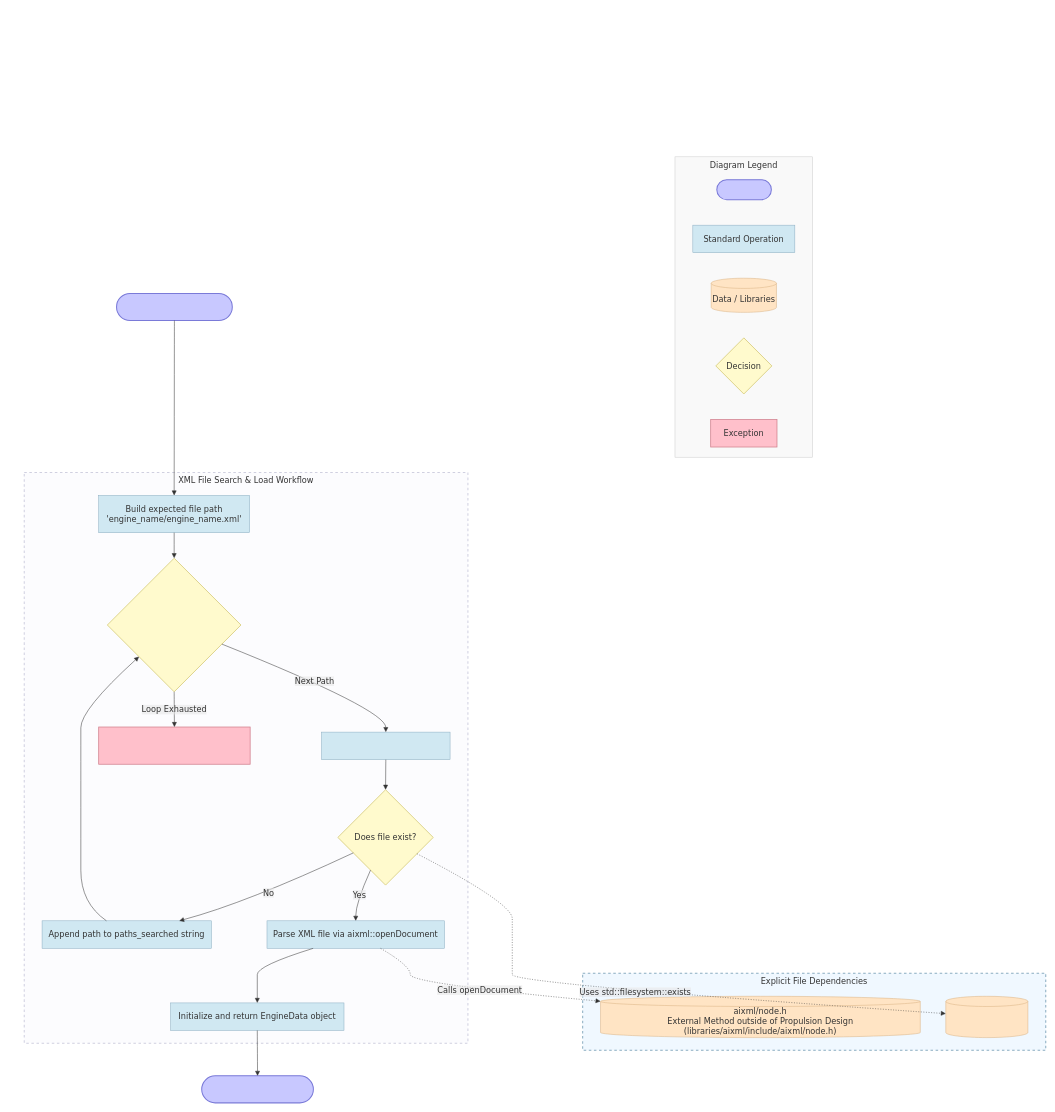
Some shapes in this 1055 by 1112 pixel diagram are drawn without their labels. The centre of each missing label's shape, as x and y in pixels:
Build full engine_xml_path: point (385, 746)
End io::load_engine_data() Return EngineData: point (257, 1089)
Entry / Exit: point (744, 189)
For each search_path in provided paths: point (174, 625)
Start io::load_engine_data() File: io/engine_xml.h: point (174, 307)
std::filesystem External C++ Library: point (986, 1017)
Throw std::runtime_error File not found in any search path: point (174, 745)
